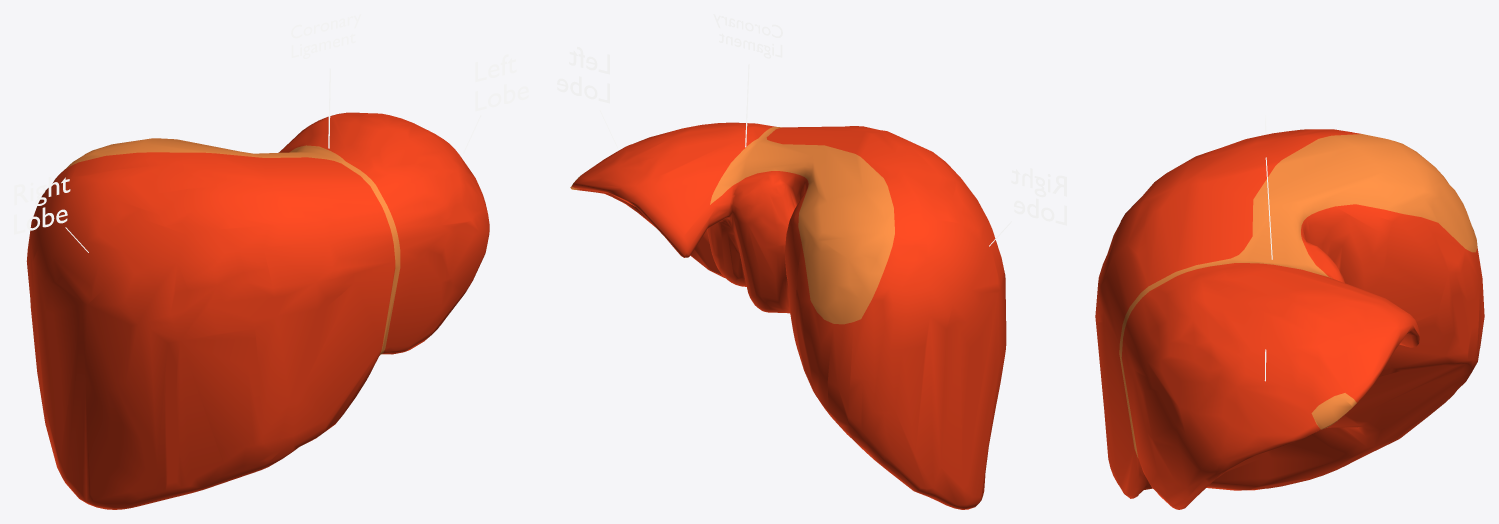
File: Liver15.gltf
3 views of the same model, side by side, from view 1: azimuth 30°, elevation 25°; view 2: azimuth 150°, elevation 25°; view 3: azimuth 270°, elevation 25° (orthographic). The views are drawn at different scales.
Parts seen in each view (by area): view 1: Liver, Text, Text.001, Text.002; view 2: Liver, Text, Text.001, Text.002; view 3: Liver.
Part boxes in pixels (left/top/right/bottom): Liver: left=26, top=112, right=489, bottom=509; Text: left=14, top=176, right=70, bottom=234; Text.001: left=475, top=54, right=528, bottom=111; Text.002: left=291, top=14, right=361, bottom=58; Liver: left=570, top=122, right=1006, bottom=509; Text: left=1011, top=168, right=1066, bottom=225; Text.001: left=557, top=46, right=609, bottom=103; Text.002: left=713, top=14, right=782, bottom=58; Liver: left=1095, top=129, right=1484, bottom=509.
Bounding box in the file's own units: 0.3403 × 0.2727 × 0.1821.
